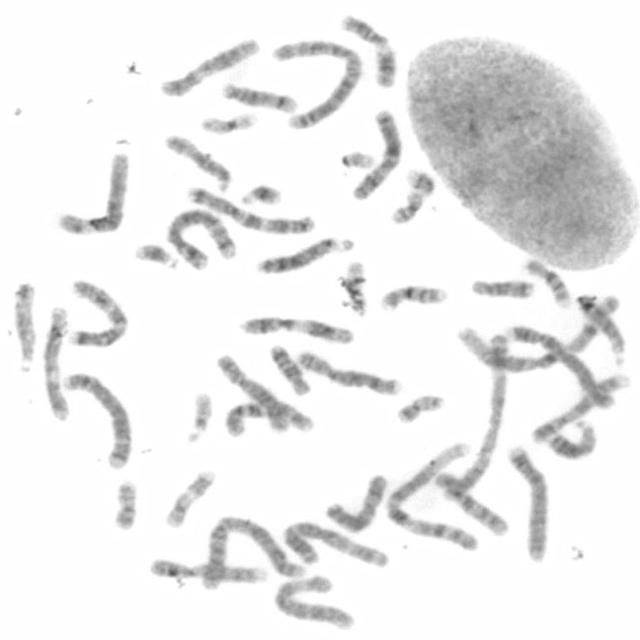A1: (450, 291, 622, 373), (380, 436, 483, 553)
A2: (196, 510, 310, 591), (268, 36, 364, 130)
A3: (448, 334, 516, 500), (278, 516, 393, 572)
B4: (506, 319, 617, 410), (502, 442, 552, 565)
B5: (59, 368, 134, 470), (162, 204, 240, 272)
C10: (432, 469, 512, 538), (221, 396, 318, 438)
C11: (336, 9, 399, 90), (236, 312, 358, 344)
C12: (155, 34, 261, 99), (38, 302, 73, 422)
C6: (55, 148, 132, 235), (270, 573, 356, 632)
C7: (180, 182, 320, 236), (64, 274, 130, 349)
C8: (210, 349, 294, 435), (291, 347, 403, 397)
C9: (528, 371, 632, 444), (143, 555, 268, 586)
D13: (253, 233, 356, 276), (542, 416, 599, 461)
D14: (570, 289, 629, 367), (218, 78, 300, 115)
D15: (161, 130, 234, 193), (8, 278, 39, 374)
E16: (520, 255, 573, 309), (376, 280, 450, 314)
E17: (160, 464, 217, 530), (389, 170, 438, 224)
E18: (265, 340, 313, 396), (465, 273, 536, 301)
F19: (197, 108, 260, 136), (342, 257, 368, 316)
F20: (392, 390, 446, 426), (109, 477, 140, 532)
G21: (131, 240, 182, 272), (237, 181, 283, 208)
G22: (181, 386, 214, 444), (336, 146, 375, 170)
X: (347, 106, 404, 202), (319, 470, 390, 534)
